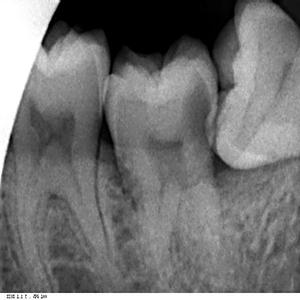tooth: (107, 43, 223, 270), (10, 31, 112, 267), (215, 0, 300, 170)
